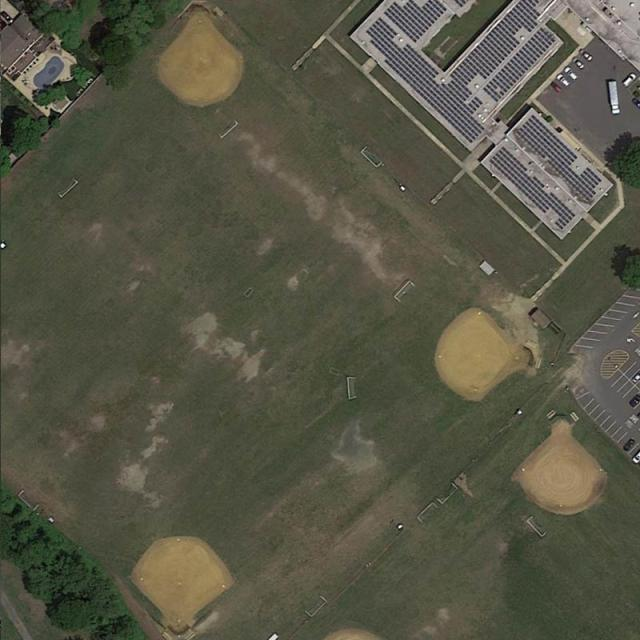vehicle: (607, 79, 621, 114), (623, 72, 638, 88), (564, 67, 578, 81), (629, 391, 640, 407), (557, 74, 570, 87), (579, 48, 592, 61), (2, 10, 15, 22), (573, 56, 584, 70), (623, 438, 634, 451), (551, 82, 562, 93), (632, 450, 640, 464), (633, 98, 640, 109), (633, 372, 640, 382)
